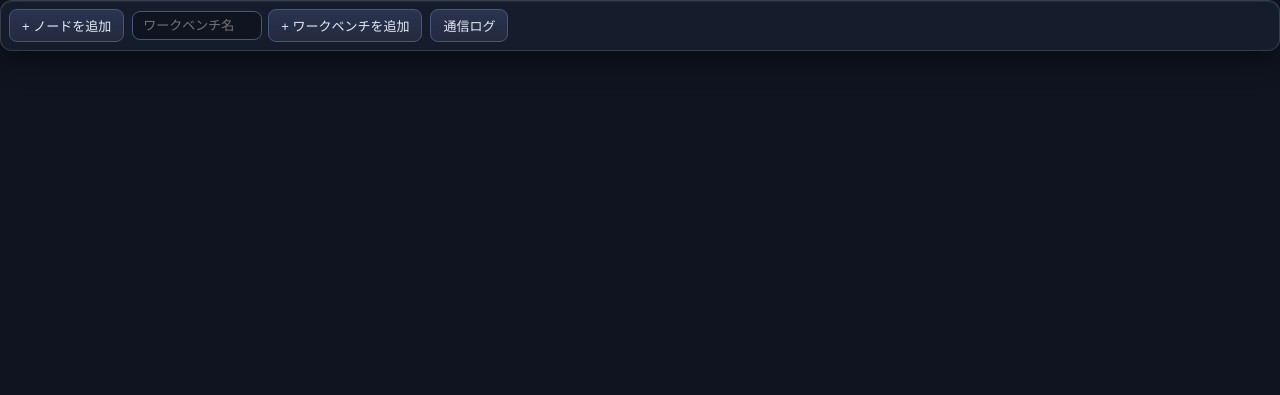
Scenario: add-node pair hint (Issue #251: why EL/CL is a pair) › shows the pair explanation even when a specific bootnode hint is resolvable
This screenshot has width=1280, height=395.
Hover over the element showing "+ ノードを追加" at (67, 26), box [9,9,124,42]
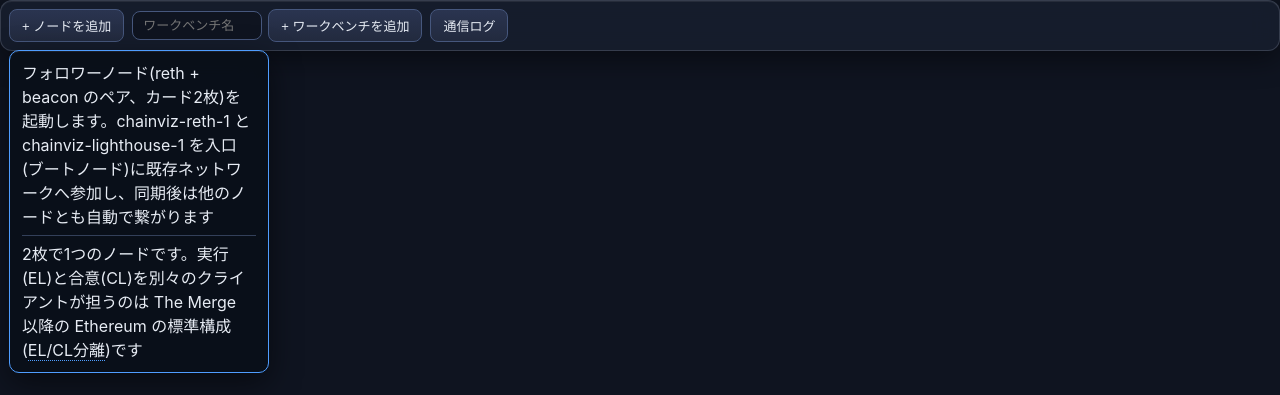
Result: the tooltip shows "EL/CL分離" at [28,340,105,360]
